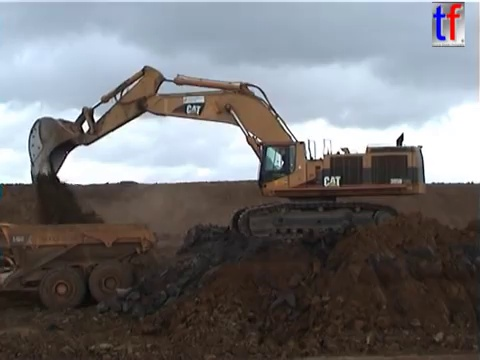excavator: (25, 63, 428, 245)
truck: (1, 219, 158, 311)
